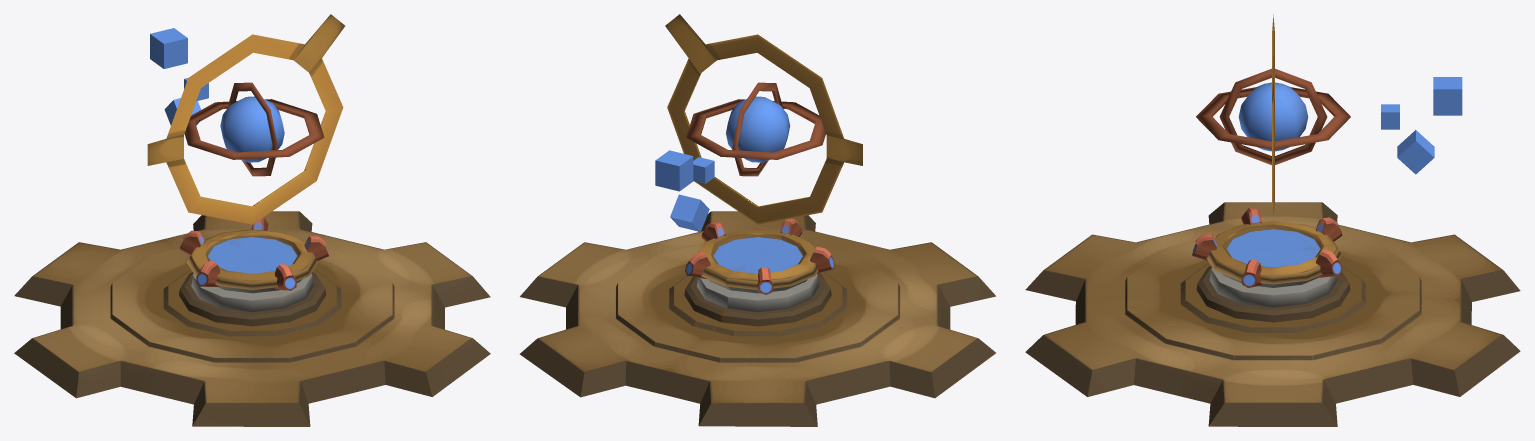
Rendered from magnetcentral_Anvil.fbx.
The picture shows the model from 3 angles, left to right: view 1: azimuth 30°, elevation 25°; view 2: azimuth 150°, elevation 25°; view 3: azimuth 270°, elevation 25°; orthographic projection. The views are drawn at different scales.
Visible parts, largest first — view 1: polySurface41; view 2: polySurface41; view 3: polySurface41.
Boxes of the visible parts, x1,y1,x2,y2 form: polySurface41: [14, 14, 490, 426]; polySurface41: [519, 14, 995, 426]; polySurface41: [1025, 14, 1520, 426].
Size of the model in its own units: 17.1 by 11.48 by 16.92.
